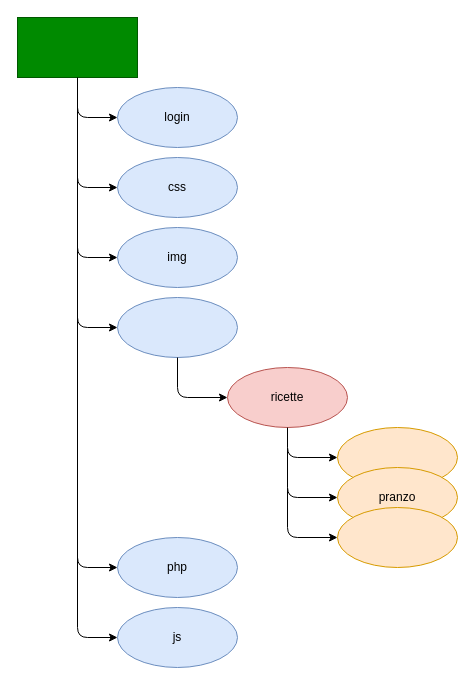
Image size: 475x685. Some labels were removed from this diagram. The box of each missing label's shape, as (x1, y1, x2, y2) in pixels:
cena: (336, 506, 458, 568)
colazione: (336, 426, 458, 488)
html: (116, 296, 238, 358)
myMeal: (16, 16, 138, 78)
